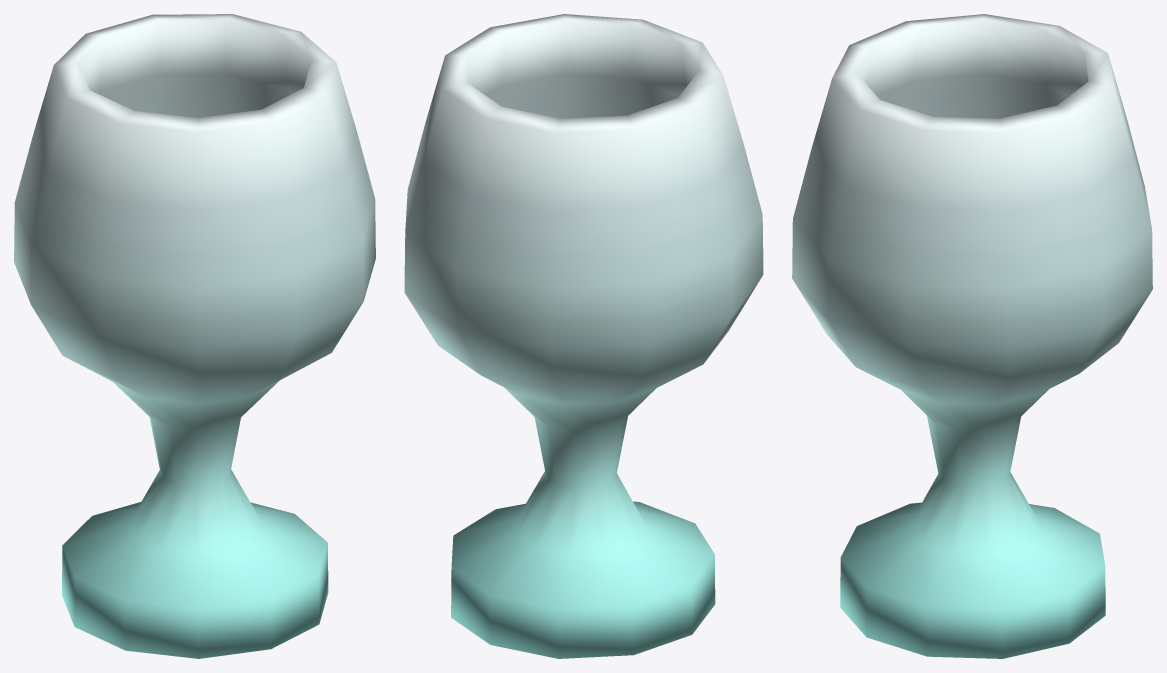
File: SM_Glasses_5.fbx
3 renders of one model, left to right at view 1: azimuth 30°, elevation 25°; view 2: azimuth 150°, elevation 25°; view 3: azimuth 270°, elevation 25°, orthographic.
Parts seen in each view (by area): view 1: SM_Glasses_5; view 2: SM_Glasses_5; view 3: SM_Glasses_5.
Boxes of the visible parts, left/top/right/bottom form: SM_Glasses_5: left=14, top=14, right=375, bottom=658; SM_Glasses_5: left=404, top=14, right=763, bottom=658; SM_Glasses_5: left=792, top=14, right=1152, bottom=658.
Size of the model in its own units: 12.64 by 20.61 by 12.64.
Materials: 1 (1 with a texture image).
